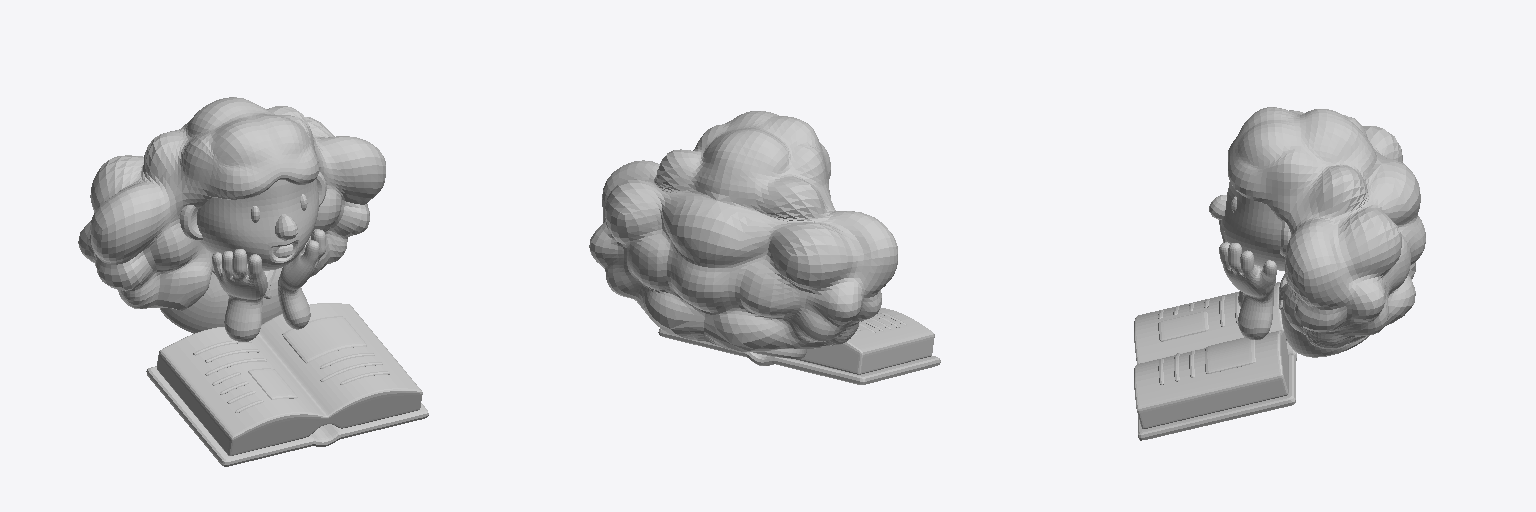
The model's file is girl-reading-a-book-icon.obj.
3 views of the same model, side by side, from view 1: azimuth 30°, elevation 25°; view 2: azimuth 150°, elevation 25°; view 3: azimuth 270°, elevation 25° (orthographic).
Visible parts, largest first — view 1: reading; view 2: reading; view 3: reading.
Part boxes in pixels (x1,y1,x2,y2): reading: (78, 97, 428, 466); reading: (589, 111, 940, 384); reading: (1134, 107, 1425, 440).
Bounding box in the file's own units: 0.7048 × 0.656 × 0.6197.